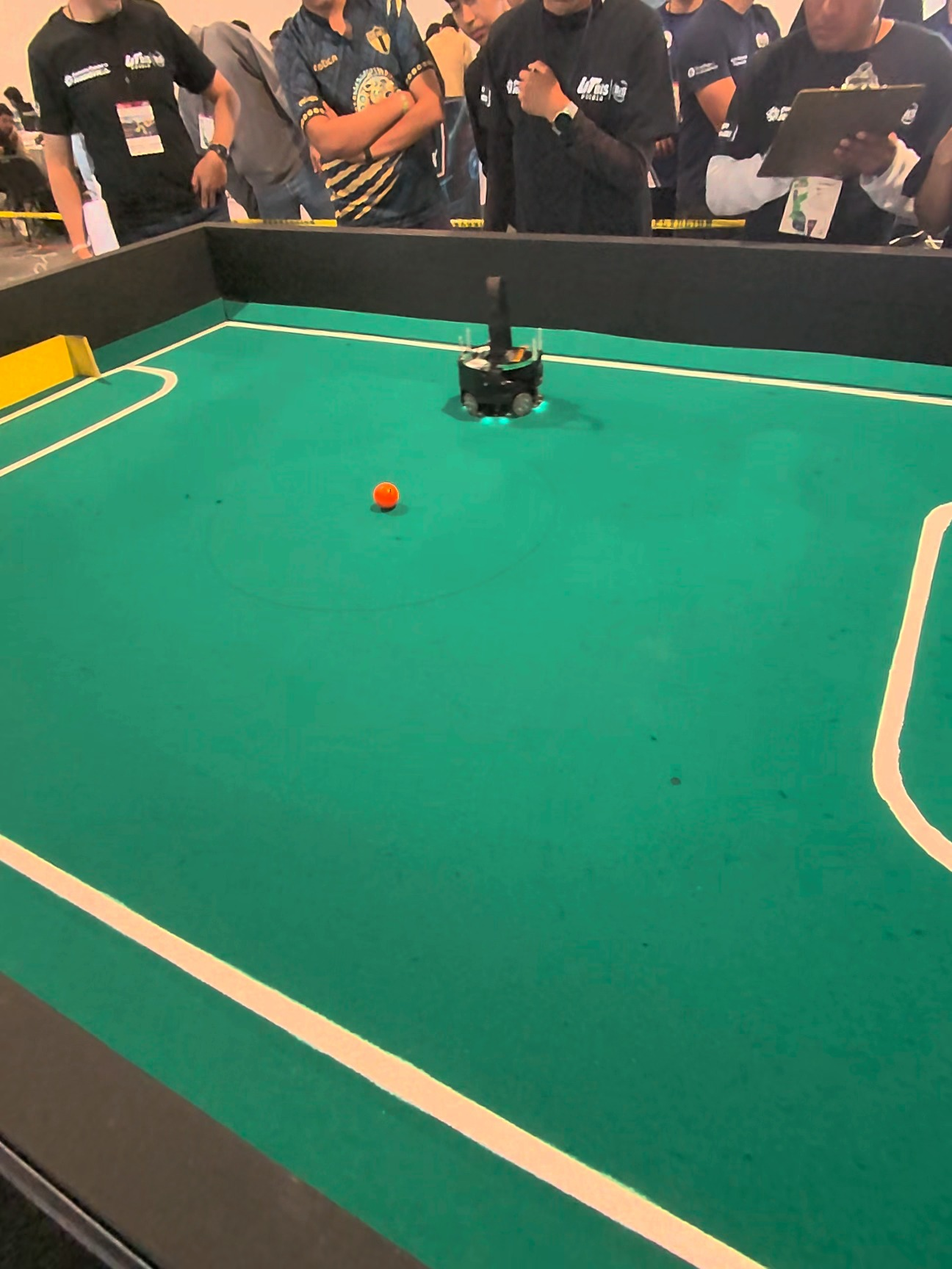Robot: (453, 275, 555, 439)
pelota: (376, 476, 399, 524)
